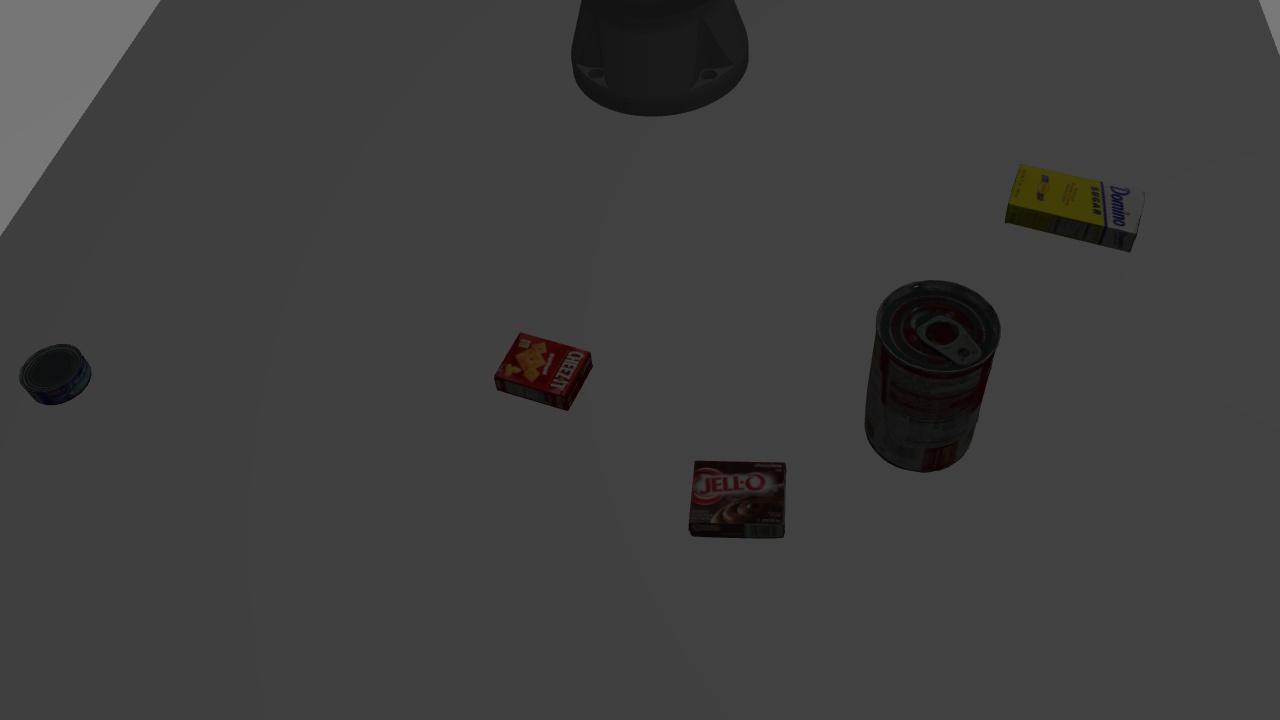cracker_box: (488, 328, 594, 408)
pudding_box: (685, 459, 786, 544)
sugar_box: (1002, 158, 1150, 254)
tomato_soup_can: (861, 265, 989, 479)
tuna_fish_can: (24, 340, 94, 402)
